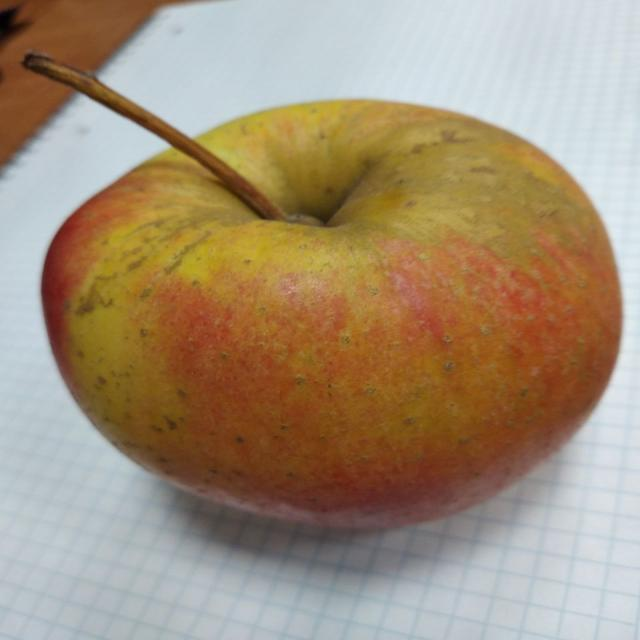Healty Apple: (41, 100, 623, 529)
